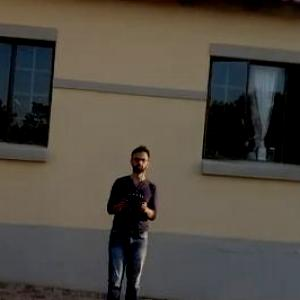follow: (98, 139, 164, 299)
